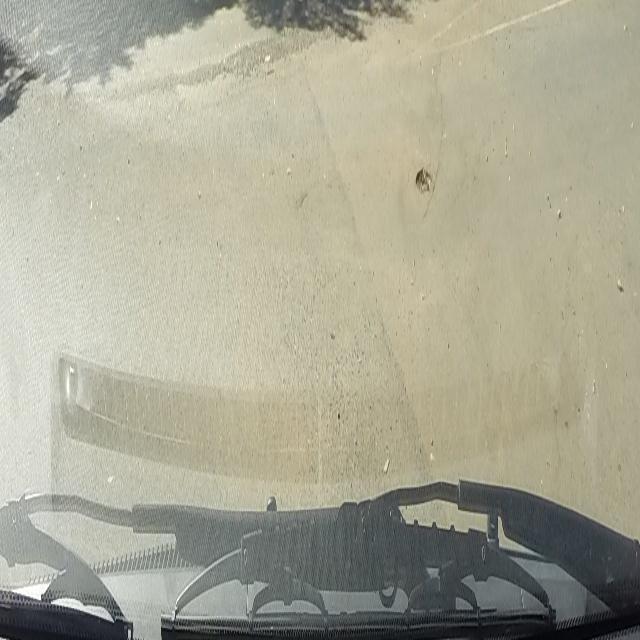pothole: (410, 162, 437, 198)
